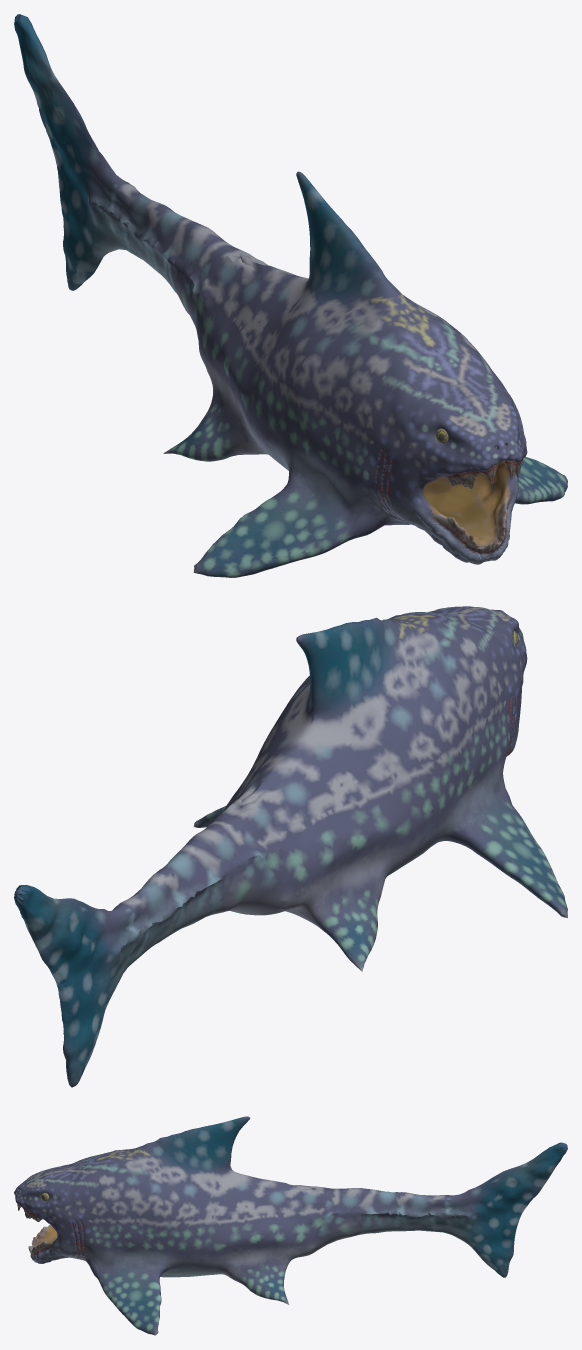
File: dunkleosteus.glb
3 renders of one model, top to bottom at view 1: azimuth 30°, elevation 25°; view 2: azimuth 150°, elevation 25°; view 3: azimuth 270°, elevation 25°, orthographic. The views are drawn at different scales.
Visible parts, largest first — view 1: Geode; view 2: Geode; view 3: Geode.
Boxes of the visible parts, x1,y1,x2,y2 form: Geode: [14, 14, 567, 577]; Geode: [14, 606, 567, 1087]; Geode: [14, 1116, 567, 1335].
Bounding box in the file's own units: 101 × 76.64 × 229.
